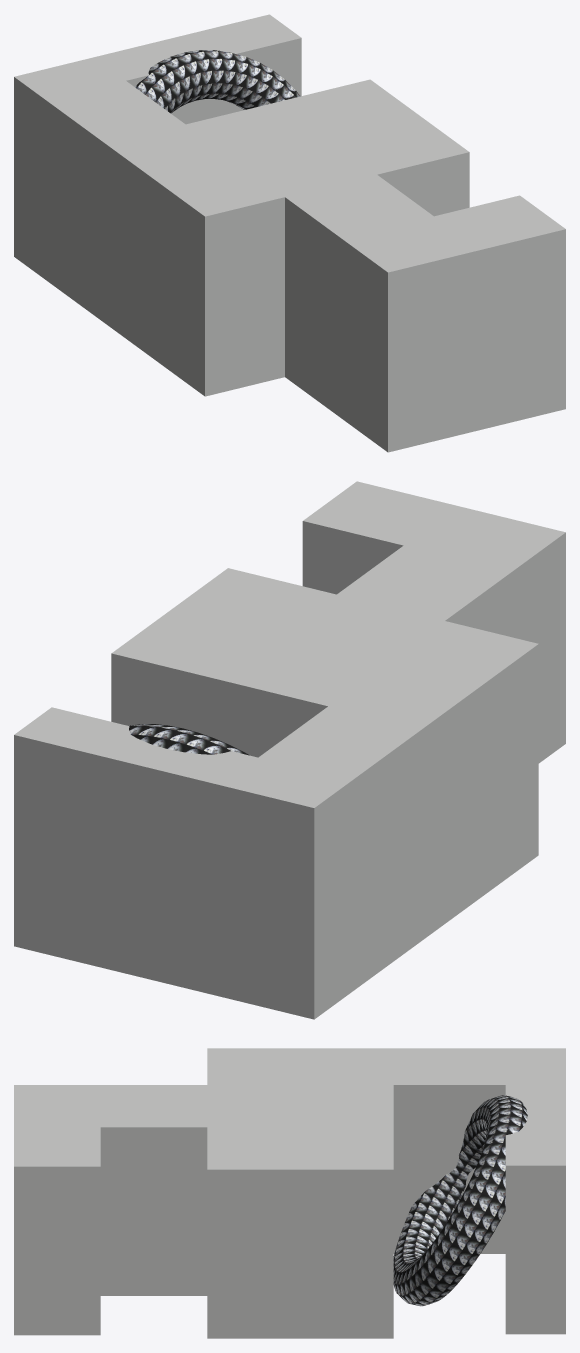
Rendered from mycube.001.dae.
3 renders of one model, top to bottom at view 1: azimuth 30°, elevation 25°; view 2: azimuth 150°, elevation 25°; view 3: azimuth 270°, elevation 25°, orthographic. The views are drawn at different scales.
Parts seen in each view (by area): view 1: Cube; view 2: Cube; view 3: Cube.
Boxes of the visible parts, bbox=[...] form: Cube: bbox=[14, 14, 565, 452]; Cube: bbox=[14, 481, 565, 1019]; Cube: bbox=[14, 1048, 565, 1338].
Bounding box in the file's own units: 3.08 × 5.92 × 2.22.
1 material, 1 textured.
